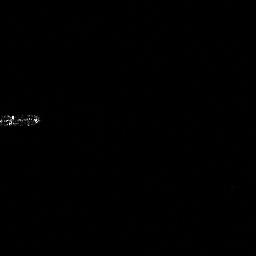ship: (1, 111, 40, 127)
